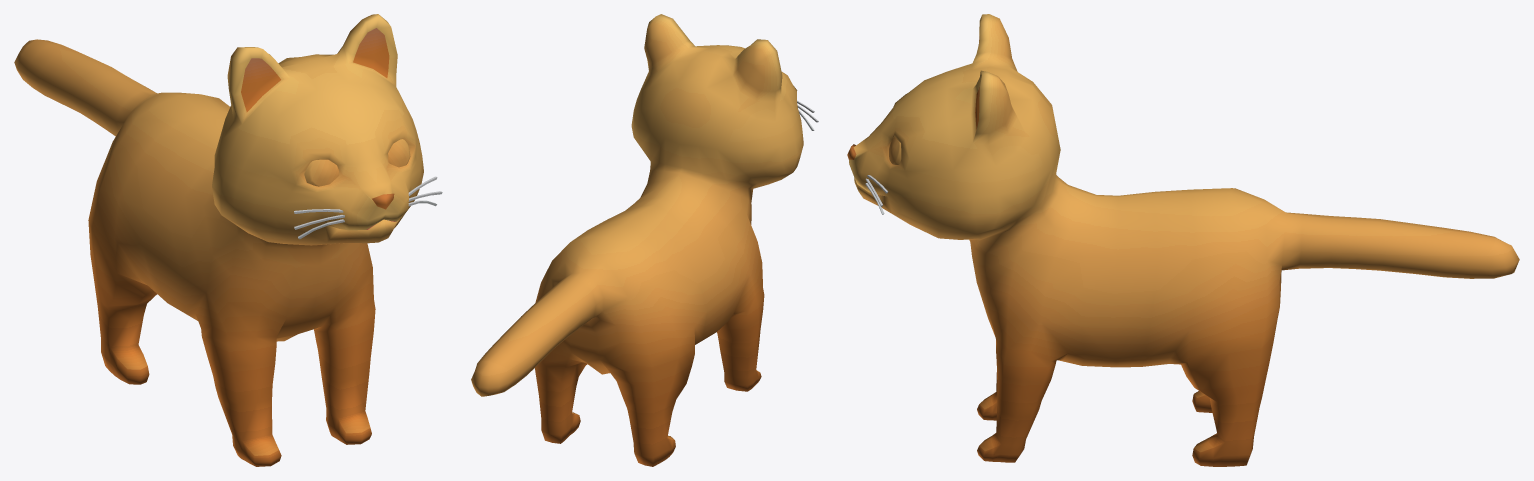
File: Gato.fbx
The picture shows the model from 3 angles, left to right: view 1: azimuth 30°, elevation 25°; view 2: azimuth 150°, elevation 25°; view 3: azimuth 270°, elevation 25°; orthographic projection. The views are drawn at different scales.
Visible parts, largest first — view 1: Cat; view 2: Cat; view 3: Cat.
Boxes of the visible parts, x1,y1,x2,y2 form: Cat: (14, 14, 442, 466); Cat: (471, 14, 818, 466); Cat: (847, 14, 1519, 466).
Bounding box in the file's own units: 15.39 × 31.77 × 49.41.
